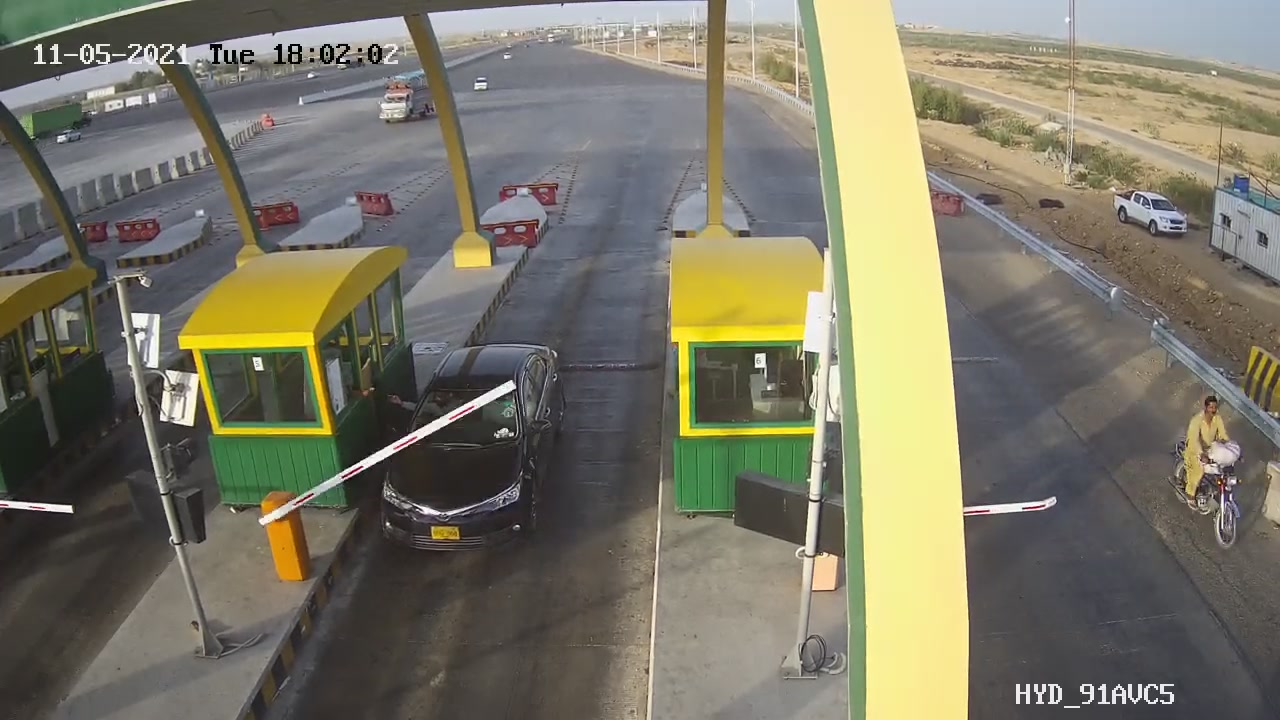F1: (357, 325, 577, 573)
